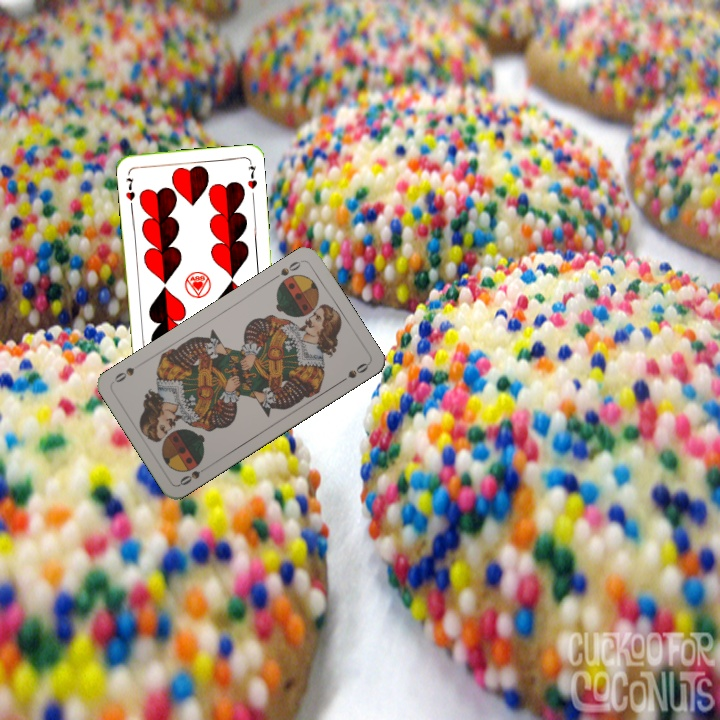H7: (122, 174, 138, 203)
SO: (175, 462, 212, 488), (268, 257, 305, 283)
